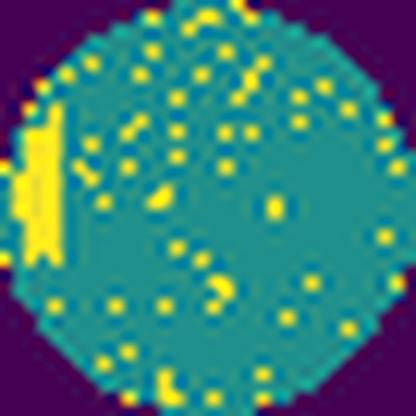Loc: (13, 102, 64, 268)
